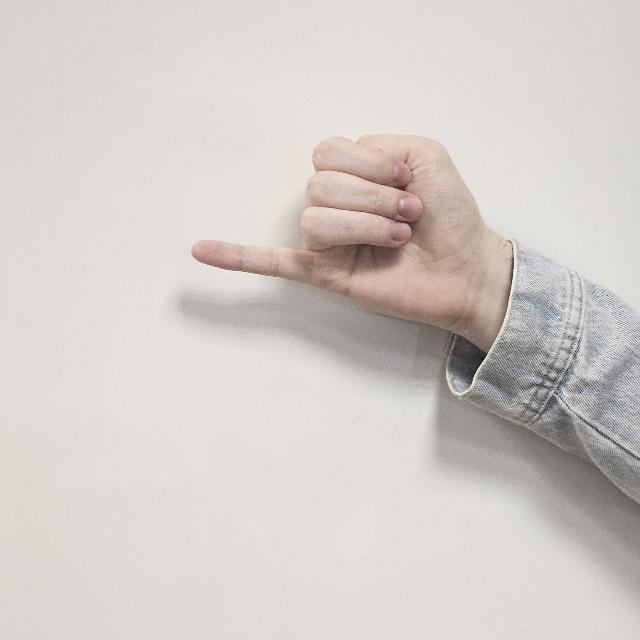Esquerda: (191, 120, 497, 330)
